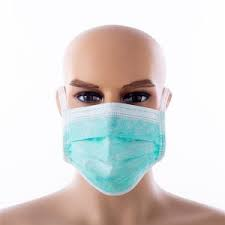mask: (56, 26, 168, 194)
